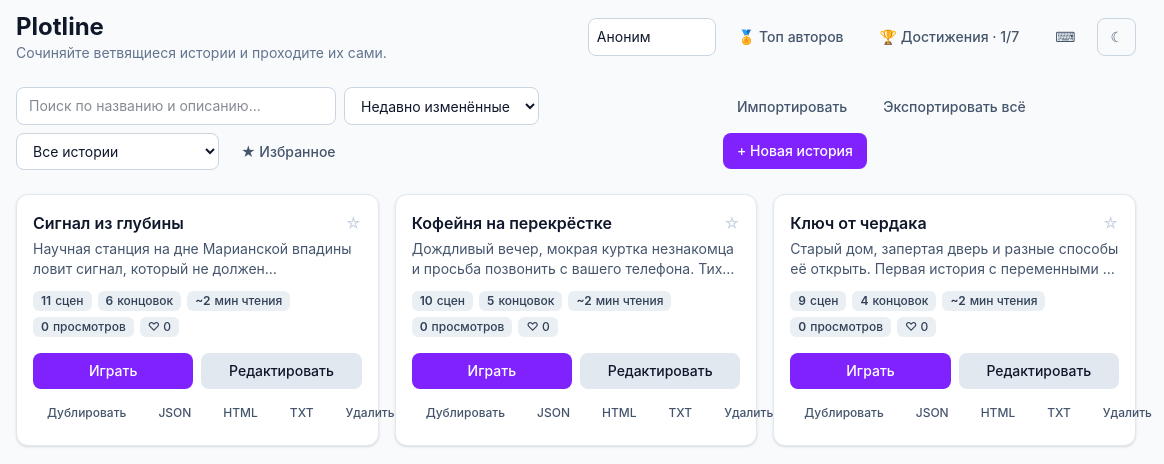
Test: LibraryScreen › reorders the story cards alphabetically when "По названию" is selected
Step 1. Select "По названию" in the dropdown named "Сортировка" → (442, 106), box [344,87,539,125]
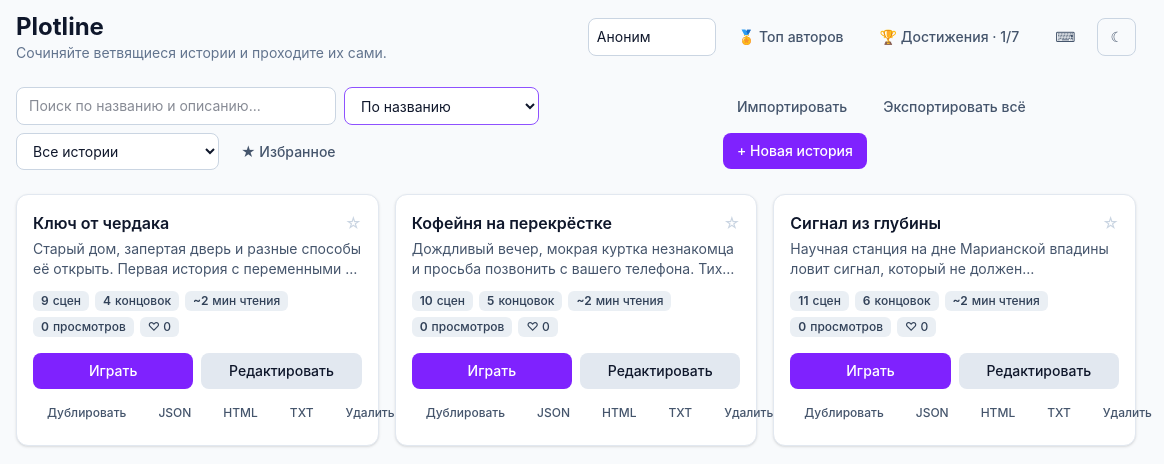
Check: the headings read "Ключ от чердака", "Кофейня на перекрёстке", "Сигнал из глубины", in this order, box [33,211,169,235]; [412,211,612,235]; [790,211,941,235]
